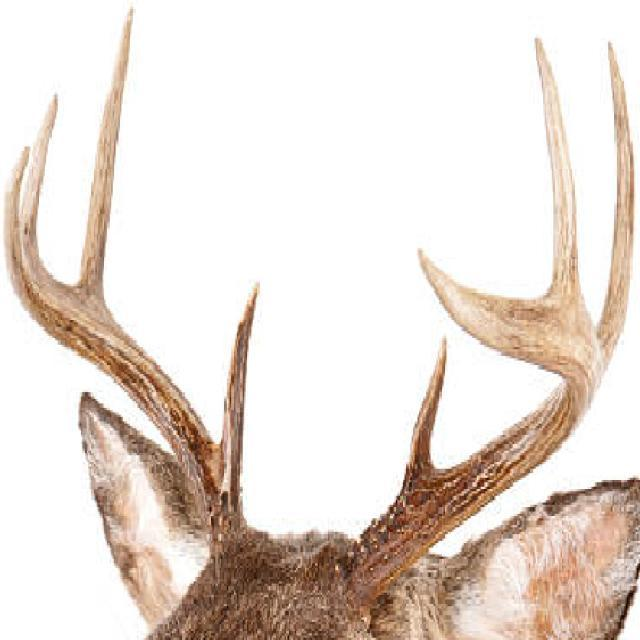L-F: (340, 249, 604, 609)
L-G1: (401, 333, 448, 487)
L-G2: (596, 41, 635, 373)
L-G3: (534, 37, 581, 295)
R-F: (3, 146, 246, 559)
R-G1: (217, 281, 263, 516)
R-G2: (72, 6, 136, 309)
R-G3: (21, 93, 66, 300)
